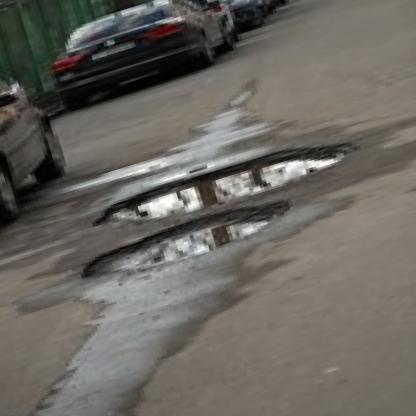pothole: (83, 124, 362, 245), (68, 188, 300, 295)
